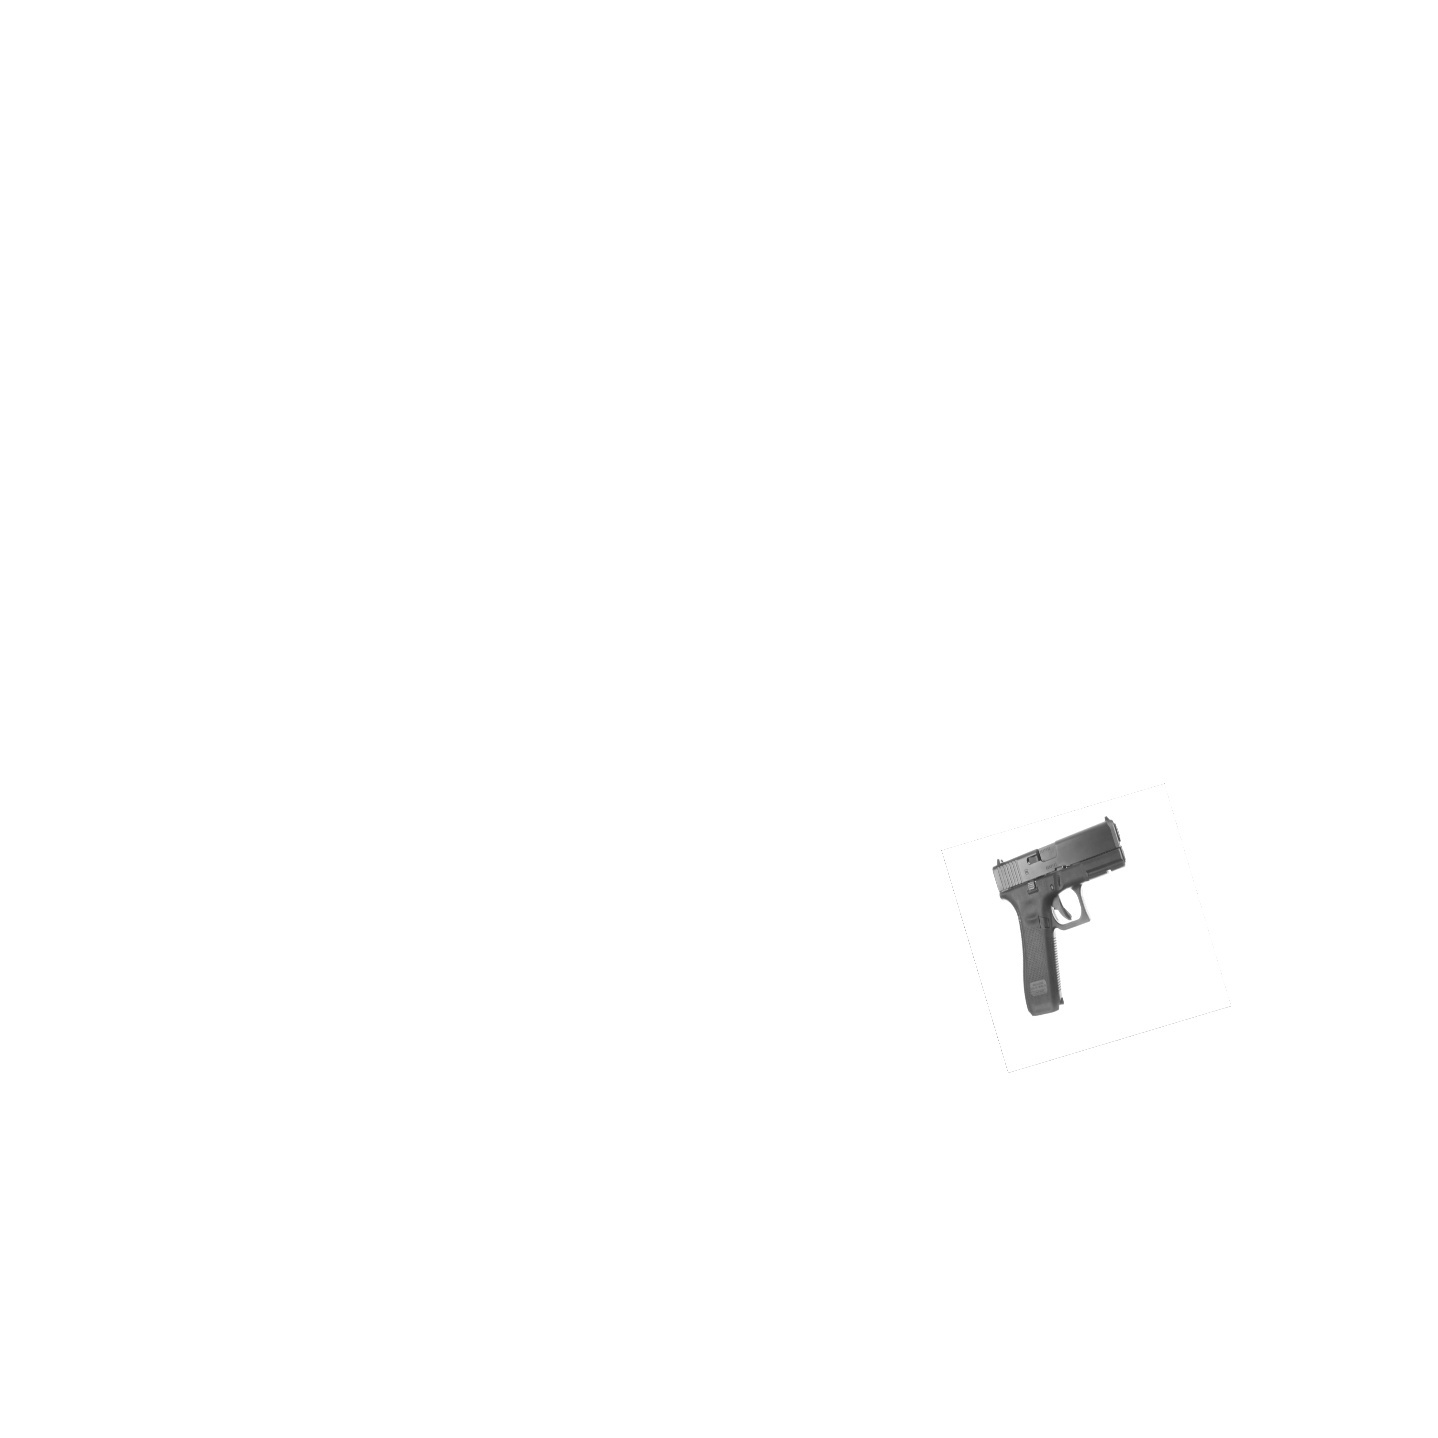gun: (984, 812, 1138, 1027)
